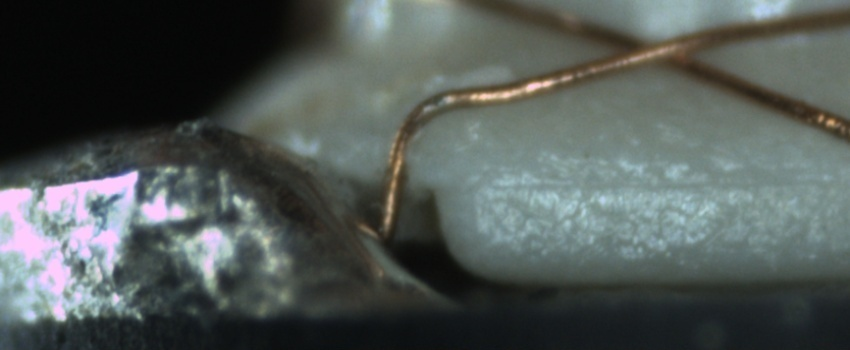CL: (587, 21, 713, 75)
DL: (478, 153, 849, 214)
